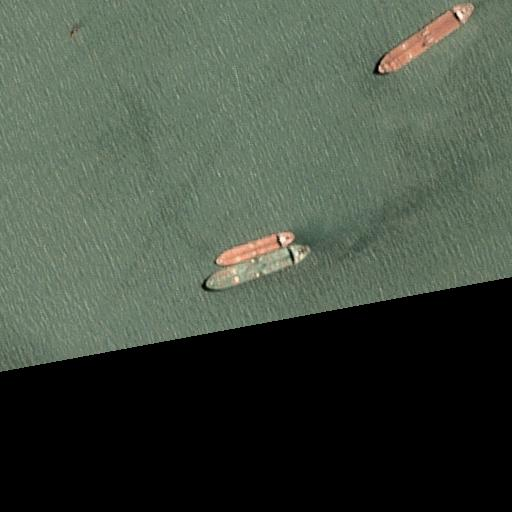ship: (377, 0, 477, 76), (204, 242, 312, 290), (214, 229, 294, 265)
